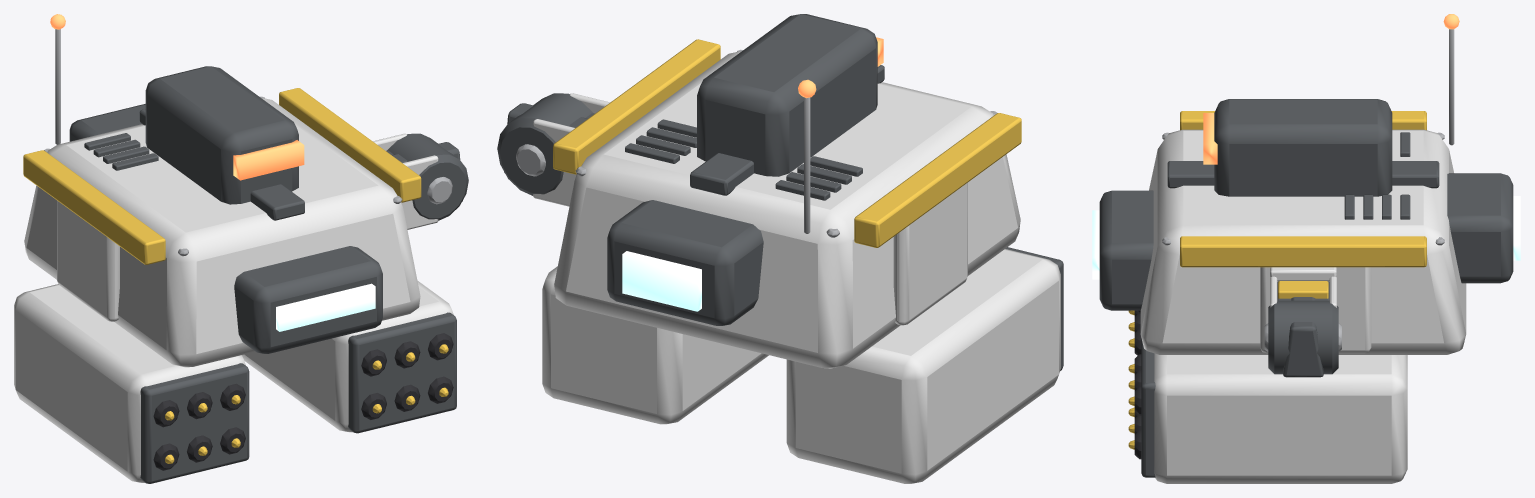
The model's file is missile.glb.
3 renders of one model, left to right at view 1: azimuth 30°, elevation 25°; view 2: azimuth 150°, elevation 25°; view 3: azimuth 270°, elevation 25°, orthographic. The views are drawn at different scales.
Visible parts, largest first — view 1: Hull, Barrel, Turret, LegUpper; view 2: Hull, Barrel, Turret, LegUpper; view 3: Hull, Barrel, Turret, LegUpper, LegLower.
Boxes of the visible parts, <box> form: Hull: <box>23,14,421,367</box>; Barrel: <box>14,280,456,483</box>; Turret: <box>145,66,304,204</box>; LegUpper: <box>373,133,468,229</box>; Hull: <box>553,39,1021,368</box>; Barrel: <box>542,247,1063,483</box>; Turret: <box>697,14,883,176</box>; LegUpper: <box>497,93,609,206</box>; Hull: <box>1092,14,1520,354</box>; Barrel: <box>1128,310,1407,483</box>; Turret: <box>1203,99,1392,196</box>; LegUpper: <box>1264,267,1341,374</box>; LegLower: <box>1278,281,1328,377</box>.
Bounding box in the file's own units: 0.7415 × 0.6285 × 0.694.
